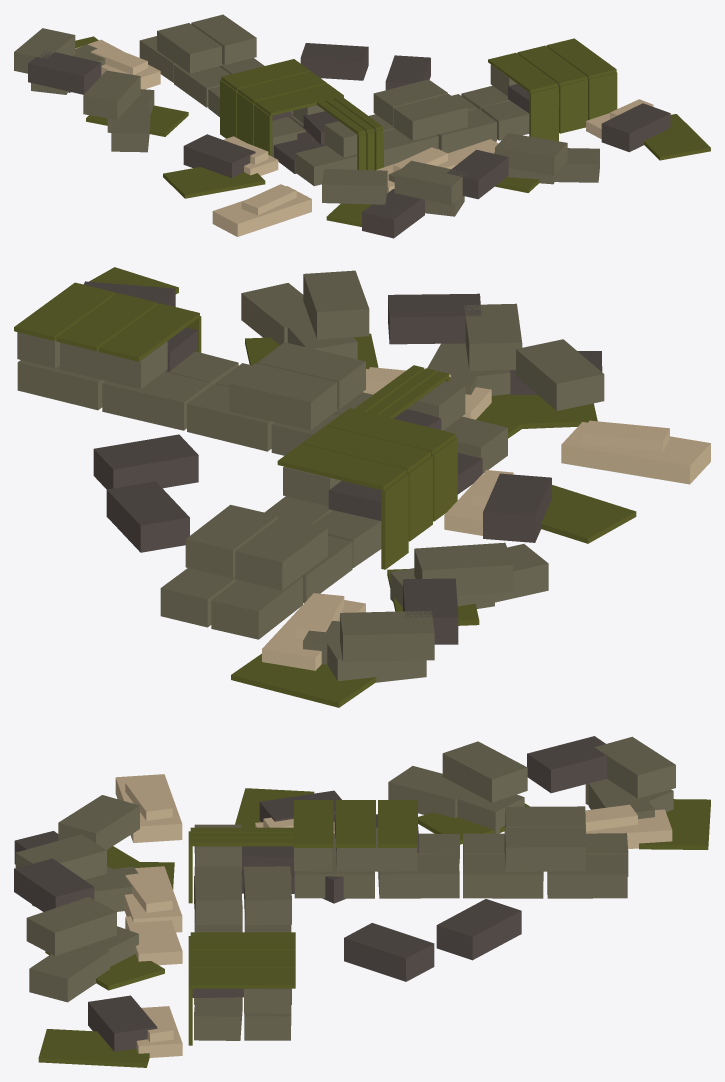
File: SM_SacosEsquina_v4_Red_e2_MuyDanado_LOD0.fbx
3 renders of one model, top to bottom at view 1: azimuth 30°, elevation 25°; view 2: azimuth 150°, elevation 25°; view 3: azimuth 270°, elevation 25°, orthographic. The views are drawn at different scales.
Visible parts, largest first — view 1: SM_sacos_piezas_v18_LOD0; view 2: SM_sacos_piezas_v18_LOD0; view 3: SM_sacos_piezas_v18_LOD0.
Boxes of the visible parts, x1,y1,x2,y2 form: SM_sacos_piezas_v18_LOD0: (14, 14, 710, 238); SM_sacos_piezas_v18_LOD0: (14, 267, 710, 707); SM_sacos_piezas_v18_LOD0: (14, 736, 710, 1067).
Size of the model in its own units: 6.82 by 0.7939 by 7.03.
